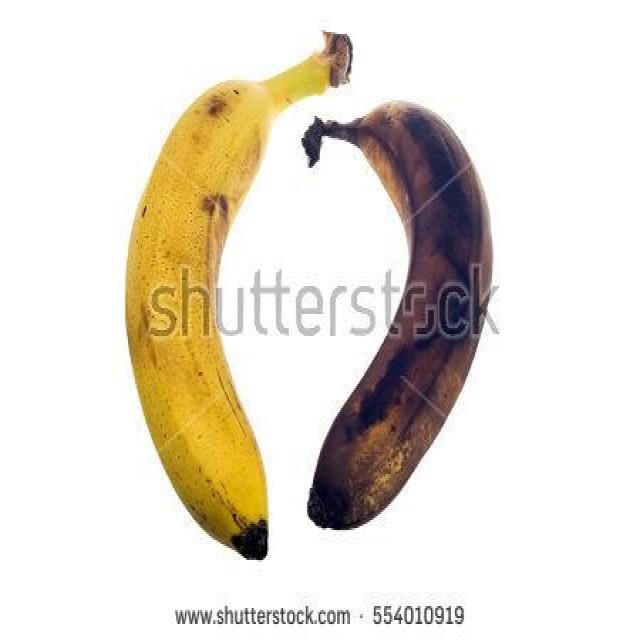Banana: (307, 109, 496, 537), (120, 74, 274, 562)
